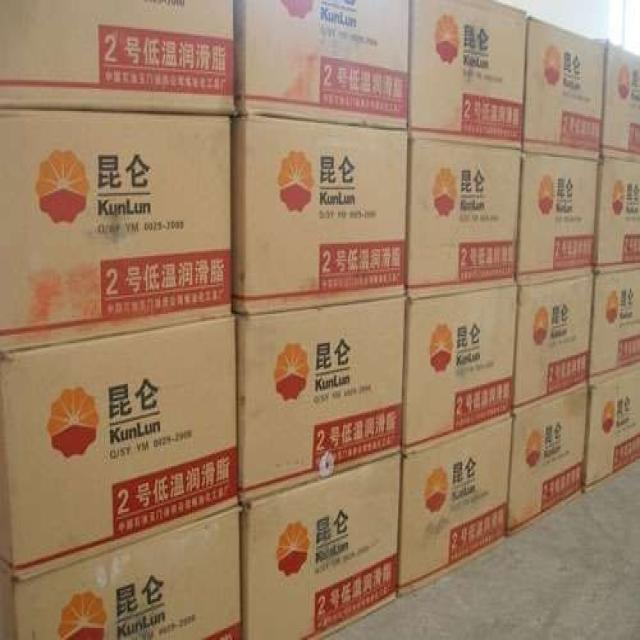box: (0, 315, 239, 582), (0, 108, 234, 355), (232, 116, 410, 314), (237, 296, 405, 504), (0, 507, 242, 638), (240, 454, 401, 638), (0, 1, 239, 118), (235, 2, 410, 130), (399, 417, 515, 598), (402, 289, 516, 455), (407, 136, 522, 298), (409, 1, 528, 150), (523, 17, 607, 163), (515, 152, 601, 290), (508, 390, 588, 537), (512, 277, 594, 415), (585, 374, 639, 490), (588, 268, 639, 386), (595, 38, 639, 160), (595, 157, 639, 276)
